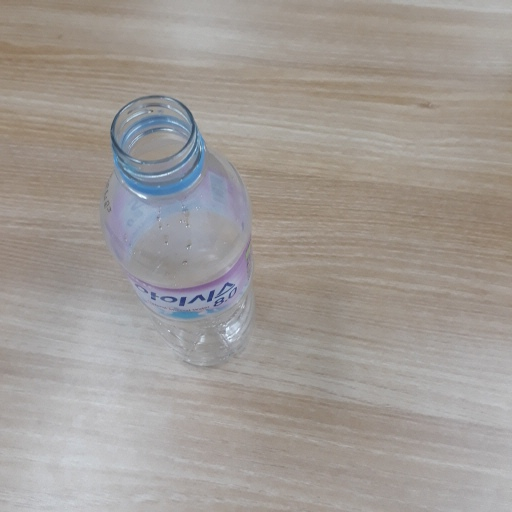Plastic_0: (105, 96, 260, 372)
